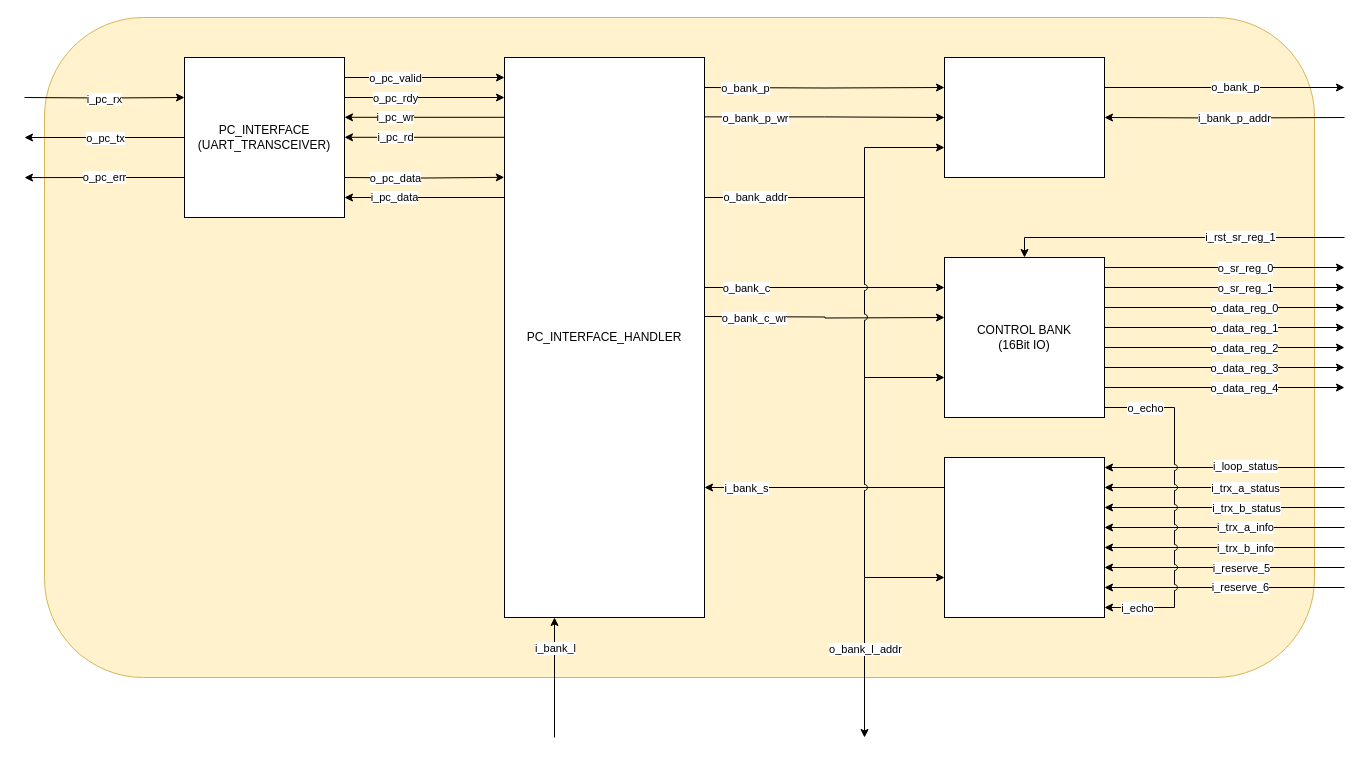
This 1370x763 diagram has some shape labels left out. The box of each missing label's shape, as (x1, y1, x2, y2) in pixels:
PATTERN_BANK (DUAL-PORT-RAM): (944, 56, 1104, 178)
STATUS BANK (16 BIT IO): (944, 456, 1104, 618)
